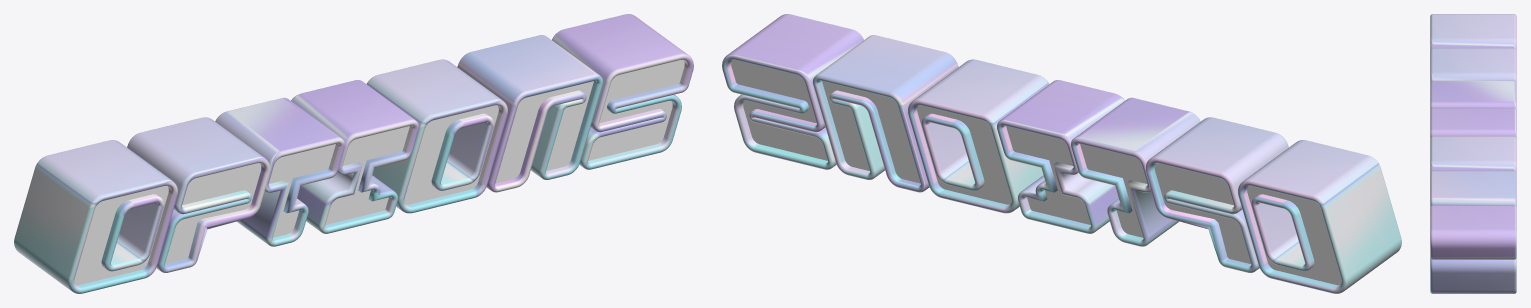
Rendered from options buttonz.fbx.
The picture shows the model from 3 angles, left to right: view 1: azimuth 30°, elevation 25°; view 2: azimuth 150°, elevation 25°; view 3: azimuth 270°, elevation 25°; orthographic projection. The views are drawn at different scales.
Visible parts, largest first — view 1: Text.001, Text; view 2: Text.001, Text; view 3: Text.001.
Boxes of the visible parts, x1,y1,x2,y2 form: Text.001: [14, 14, 693, 293]; Text: [74, 60, 684, 285]; Text.001: [722, 14, 1401, 293]; Text: [731, 60, 1341, 285]; Text.001: [1430, 14, 1516, 293].
Size of the model in its own units: 636 by 91.38 by 100.
